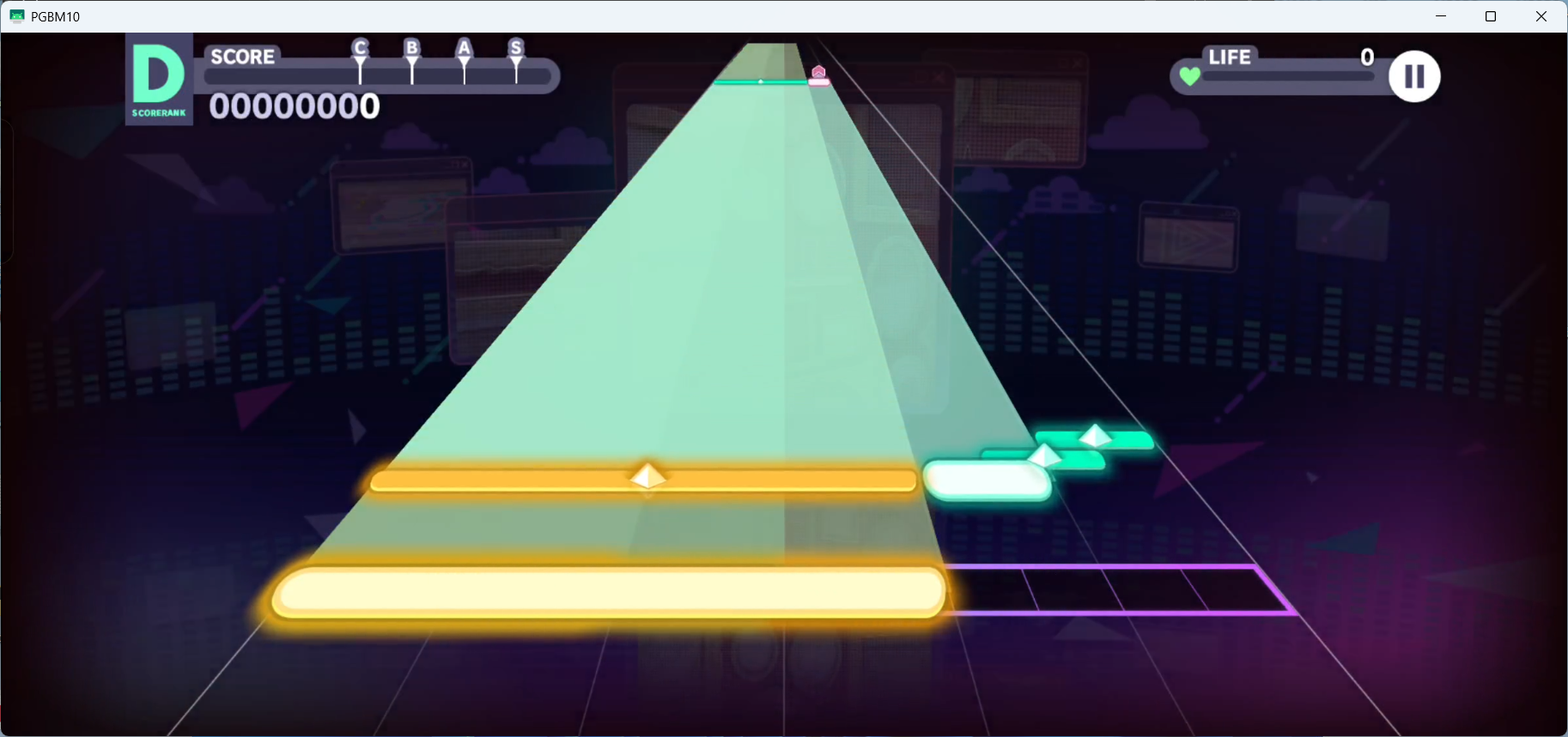flick: (714, 78, 808, 85), (811, 64, 826, 78)
hold: (387, 40, 914, 469), (783, 40, 1033, 460), (809, 86, 1033, 462), (300, 499, 933, 570)
sweep: (368, 463, 918, 492), (981, 443, 1105, 468), (1036, 425, 1154, 450)
tap: (270, 566, 950, 619), (922, 461, 1051, 502), (808, 78, 830, 86)
